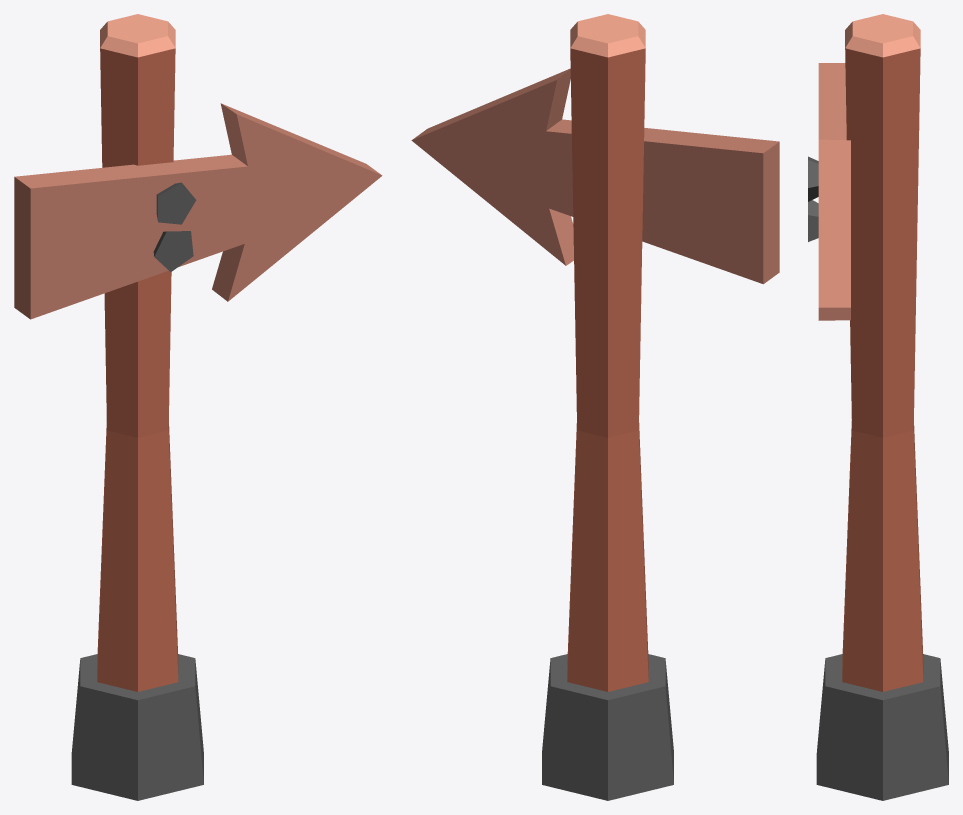
File: props_065.glb
3 renders of one model, left to right at view 1: azimuth 30°, elevation 25°; view 2: azimuth 150°, elevation 25°; view 3: azimuth 270°, elevation 25°, orthographic.
Parts seen in each view (by area): view 1: props_065; view 2: props_065; view 3: props_065.
Boxes of the visible parts, x1,y1,x2,y2 form: props_065: (14, 14, 382, 800); props_065: (411, 14, 779, 800); props_065: (808, 14, 948, 800).
Size of the model in its own units: 1.53 by 3.07 by 0.5302.
1 material, 1 textured.
